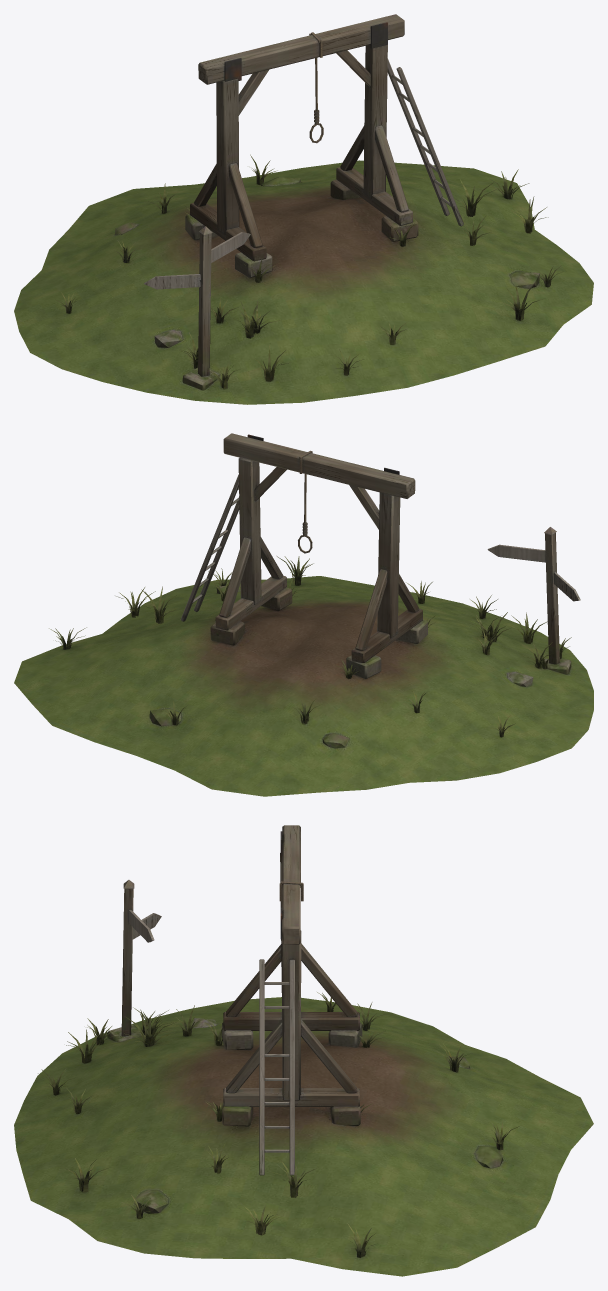
The model's file is gallows.glb.
3 renders of one model, top to bottom at view 1: azimuth 30°, elevation 25°; view 2: azimuth 150°, elevation 25°; view 3: azimuth 270°, elevation 25°, orthographic. The views are drawn at different scales.
Parts seen in each view (by area): view 1: gallows_LOD0; view 2: gallows_LOD0; view 3: gallows_LOD0.
Boxes of the visible parts, bbox=[...] form: gallows_LOD0: bbox=[14, 14, 593, 404]; gallows_LOD0: bbox=[14, 433, 593, 796]; gallows_LOD0: bbox=[14, 825, 593, 1276].
Size of what is drawn, in the model's own units: 9.21 by 4.07 by 8.06.
1 material, 1 textured.
